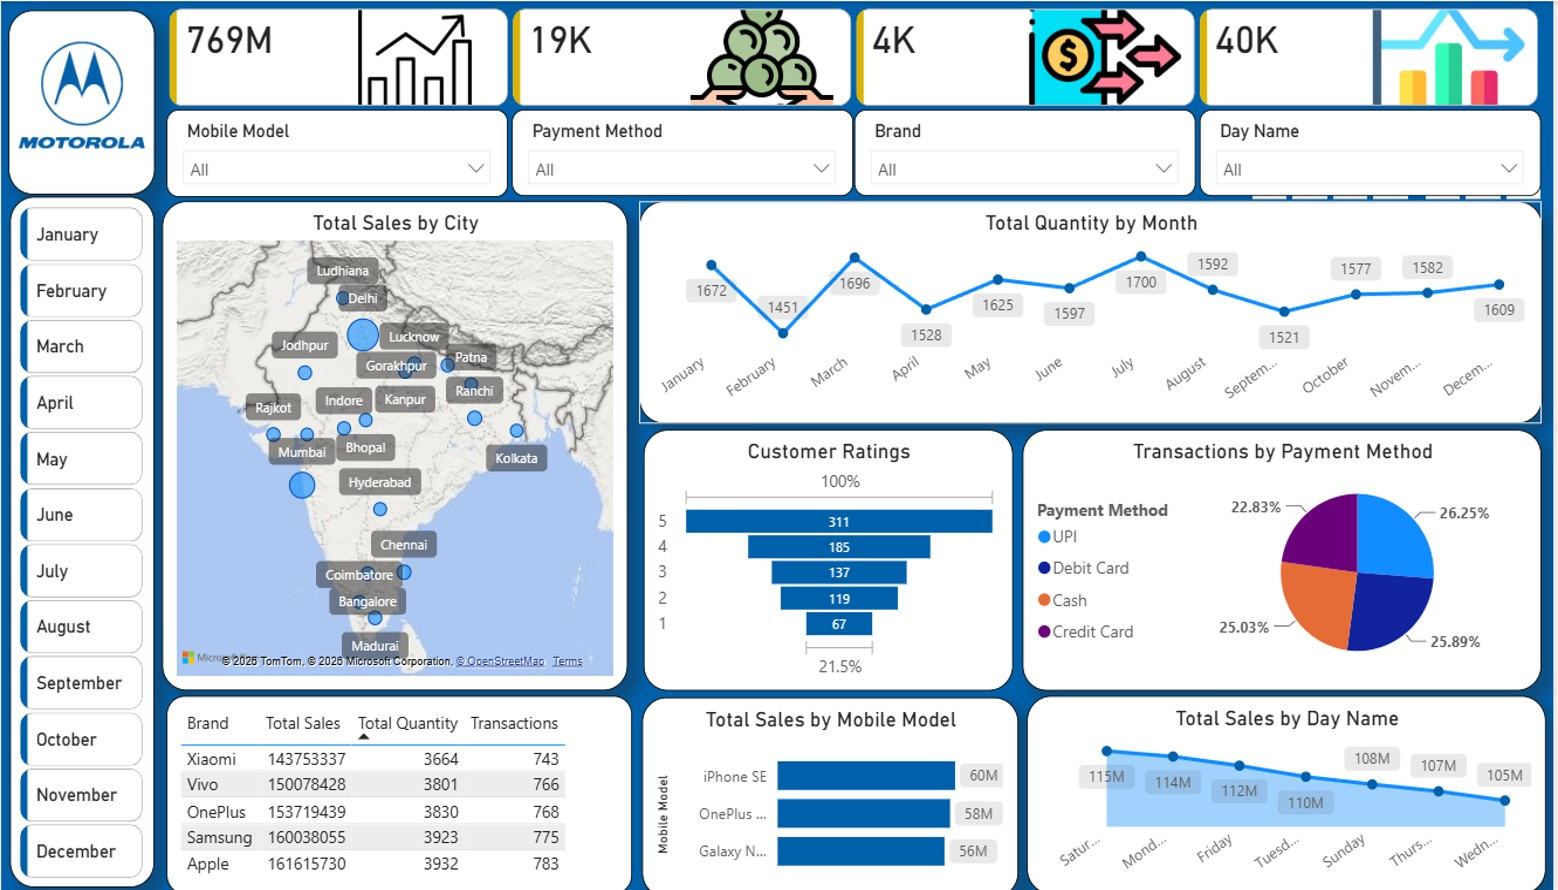

The dashboard page shown, as its layout file describes it:
{"tool":"powerbi","page":{"name":"Page 1","canvas":[1280,720],"ordinal":0},"visuals":[{"type":"shape","box":[5.5,6.9,120.8,148.2],"z":0},{"type":"image","box":[9.6,16.5,113.9,116.6],"z":1000},{"type":"shape","box":[6.9,156.4,119.4,554.4],"z":2000},{"type":"advancedSlicerVisual","fields":{"Values":["Sales_Data.Date.Variation.Date Hierarchy.Month"]},"box":[11,160.5,111.1,548.9],"z":3000},{"type":"cardVisual","fields":{"Data":["Sales_Data.Total Sales","Sales_Data.Total Quantity","Sales_Data.Transactions","Sales_Data.Average"]},"box":[134,5.6,1140.1,83.7],"z":4000},{"type":"map","fields":{"Category":["Sales_Data.City"],"Size":["Sales_Data.Total Sales"]},"box":[132.9,160.8,384.1,393.1],"z":5000},{"type":"lineChart","fields":{"Y":["Sales_Data.Total Quantity"],"Category":["Sales_Data.Date.Variation.Date Hierarchy.Month","Sales_Data.Date.Variation.Date Hierarchy.Day"]},"box":[525.9,160.8,744.8,178.7],"z":6000},{"type":"clusteredBarChart","fields":{"Category":["Sales_Data.Mobile Model"],"Y":["Sales_Data.Total Sales"]},"box":[528.3,558.5,310.1,160.5],"z":7000},{"type":"pieChart","fields":{"Category":["Sales_Data.Payment Method"],"Y":["Sales_Data.Transactions"]},"box":[842.5,344.4,428.1,209.9],"z":8000},{"type":"funnel","title":"Customer Ratings","fields":{"Category":["Sales_Data.Customer Ratings"],"Y":["CountNonNull(Sales_Data.Customer Ratings)"]},"box":[533.2,343.8,305.2,211.1],"z":9000},{"type":"areaChart","fields":{"Category":["Sales_Data.Day Name"],"Y":["Sales_Data.Total Sales"]},"box":[845.3,557.1,428.1,159.2],"z":10000},{"type":"tableEx","fields":{"Values":["Sales_Data.Brand","Sales_Data.Total Sales","Sales_Data.Total Quantity","Sales_Data.Transactions"]},"box":[135.8,557.1,384.2,159.2],"z":11000},{"type":"slicer","fields":{"Values":["Sales_Data.Mobile Model"]},"box":[136.2,87.1,281.4,70.3],"z":12000},{"type":"slicer","fields":{"Values":["Sales_Data.Payment Method"]},"box":[421,87.1,281.4,69.2],"z":13000},{"type":"slicer","fields":{"Values":["Sales_Data.Brand"]},"box":[703.5,87.1,281.4,69.2],"z":14000},{"type":"slicer","fields":{"Values":["Sales_Data.Day Name"]},"box":[988.2,87.1,281.4,69.2],"z":15000}]}

Visuals, with their boxes in screenshot pixels (x1, y1, x2, y2), scaled from the page's 1280x720 canvas onto the 1558x890 screenshot:
shape: [x1=7, y1=9, x2=154, y2=192]
image: [x1=12, y1=20, x2=150, y2=165]
shape: [x1=8, y1=193, x2=154, y2=879]
advancedSlicerVisual - Sales_Data.Date.Variation.Date Hierarchy.Month: [x1=13, y1=198, x2=149, y2=877]
cardVisual - Sales_Data.Total Sales x Sales_Data.Total Quantity: [x1=163, y1=7, x2=1551, y2=110]
map - Sales_Data.City x Sales_Data.Total Sales: [x1=162, y1=199, x2=629, y2=685]
lineChart - Sales_Data.Total Quantity x Sales_Data.Date.Variation.Date Hierarchy.Month: [x1=640, y1=199, x2=1547, y2=420]
clusteredBarChart - Sales_Data.Mobile Model x Sales_Data.Total Sales: [x1=643, y1=690, x2=1020, y2=889]
pieChart - Sales_Data.Payment Method x Sales_Data.Transactions: [x1=1025, y1=426, x2=1547, y2=685]
"Customer Ratings" funnel: [x1=649, y1=425, x2=1020, y2=686]
areaChart - Sales_Data.Day Name x Sales_Data.Total Sales: [x1=1029, y1=689, x2=1550, y2=885]
tableEx - Sales_Data.Brand x Sales_Data.Total Sales: [x1=165, y1=689, x2=633, y2=885]
slicer - Sales_Data.Mobile Model: [x1=166, y1=108, x2=508, y2=195]
slicer - Sales_Data.Payment Method: [x1=512, y1=108, x2=855, y2=193]
slicer - Sales_Data.Brand: [x1=856, y1=108, x2=1199, y2=193]
slicer - Sales_Data.Day Name: [x1=1203, y1=108, x2=1545, y2=193]
